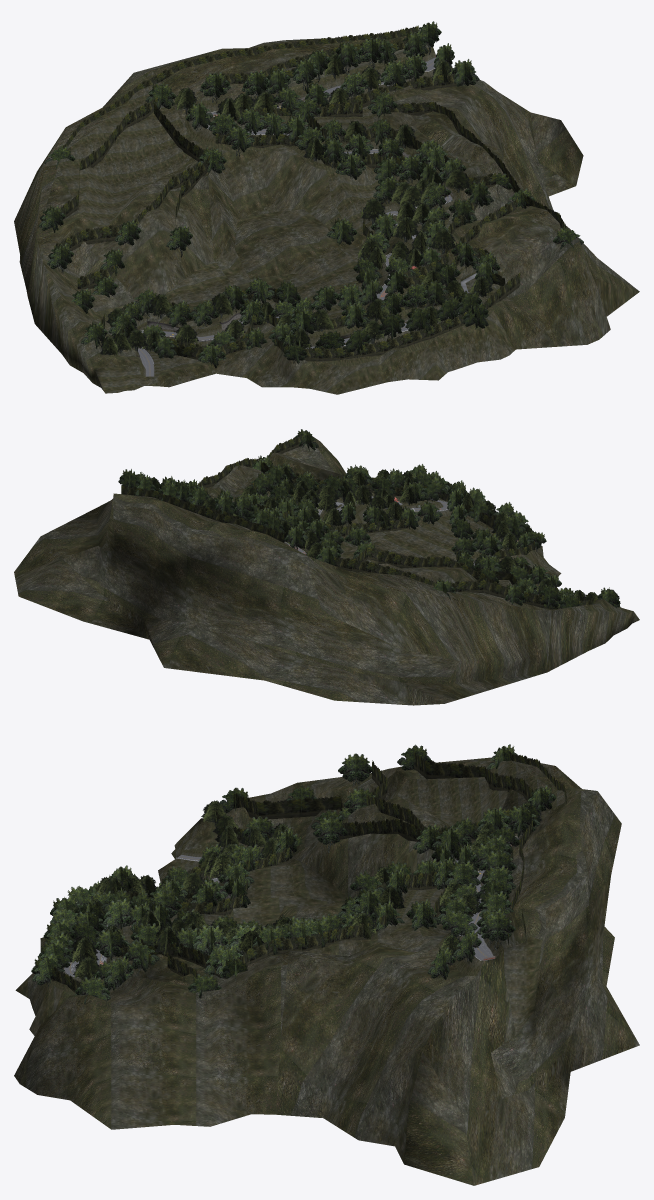
File: MOUNT_AKINA_FBX.fbx
3 views of the same model, one above another, from view 1: azimuth 30°, elevation 25°; view 2: azimuth 150°, elevation 25°; view 3: azimuth 270°, elevation 25° (orthographic). The views are drawn at different scales.
Visible parts, largest first — view 1: LODAKINA; view 2: LODAKINA; view 3: LODAKINA.
Boxes of the visible parts, x1,y1,x2,y2 form: LODAKINA: (14, 21, 639, 394); LODAKINA: (14, 429, 639, 705); LODAKINA: (14, 744, 639, 1185).
Size of the model in its own units: 933 by 248 by 709.
Materials: 21 (20 with a texture image).
